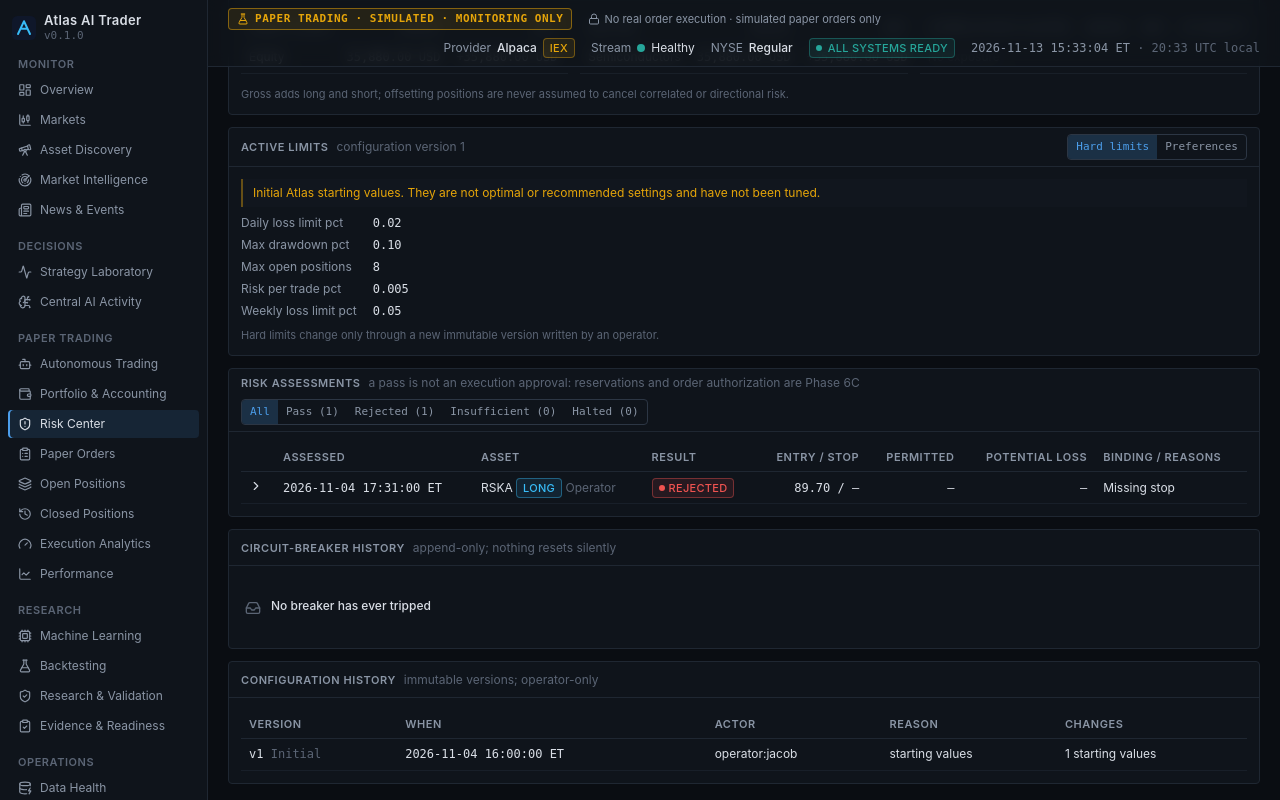
Risk Center › lists assessments with their reasons and expands the recorded checks
This screenshot has width=1280, height=800.
(page scrolled)
Expected: the text "Missing stop" is shown, top-left (1095, 472), bottom-right (1247, 504)
Click the button named "Show checks for RSKA". click: (256,486)
box: top-left (249, 478), bottom-right (263, 492)
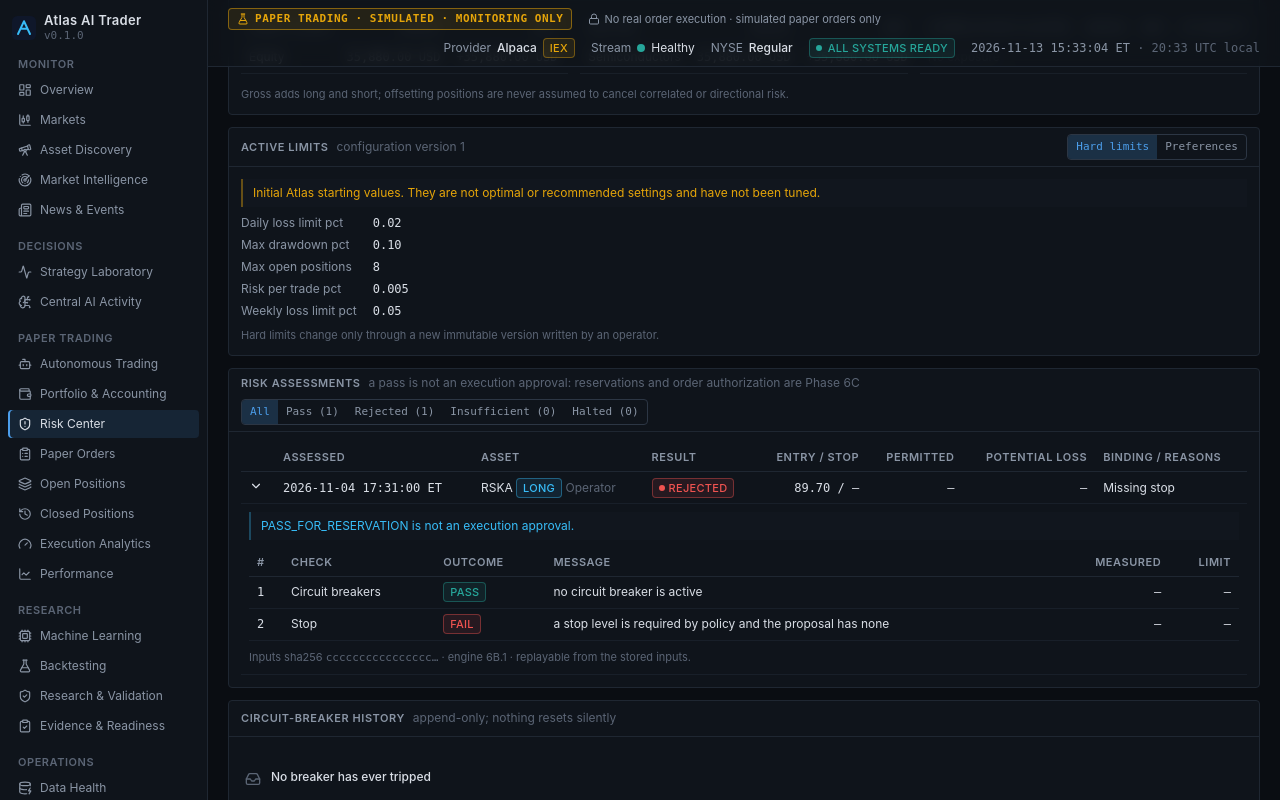
Expected: the text "FAIL" is shown, top-left (443, 614), bottom-right (481, 634)
Expected: the text "PASS_FOR_RESERVATION is not an execution approval." is shown, top-left (249, 512), bottom-right (1239, 540)
